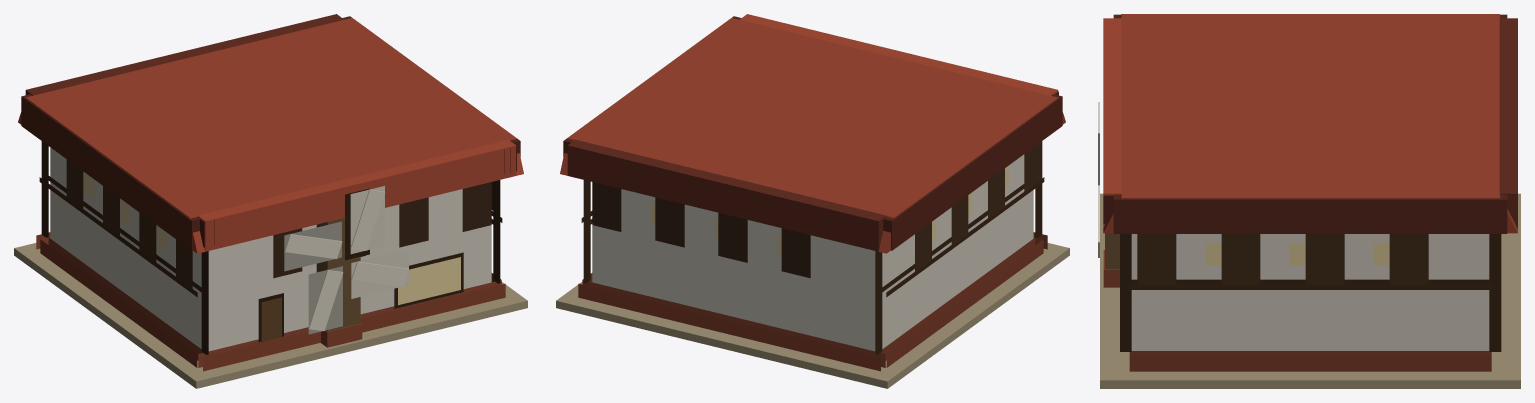
Rendered from FanVultureSil.fbx.
3 views of the same model, side by side, from view 1: azimuth 30°, elevation 25°; view 2: azimuth 150°, elevation 25°; view 3: azimuth 270°, elevation 25° (orthographic). The views are drawn at different scales.
Visible parts, largest first — view 1: WM_S_All; view 2: WM_S_All; view 3: WM_S_All.
Part boxes in pixels (bbox=[...]): WM_S_All: bbox=[14, 14, 527, 388]; WM_S_All: bbox=[556, 14, 1069, 388]; WM_S_All: bbox=[1098, 14, 1520, 388].
Bounding box in the file's own units: 42.04 × 19.9 × 40.24.
